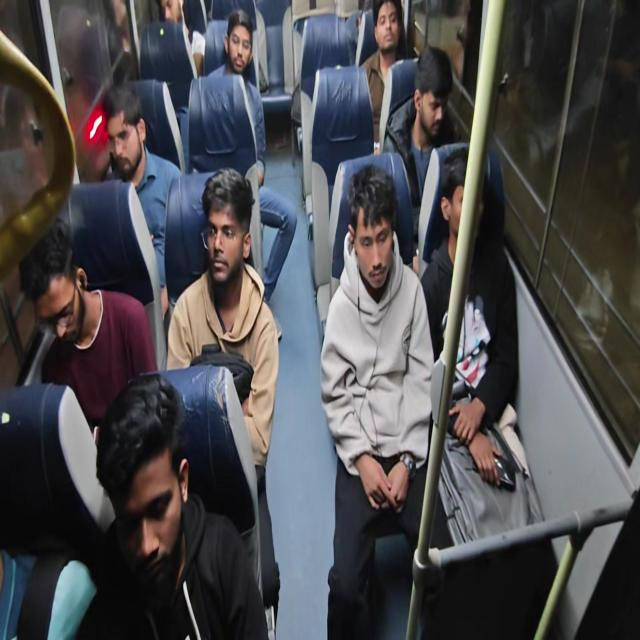person: (94, 366, 214, 578), (339, 163, 408, 300), (18, 224, 92, 351), (202, 162, 255, 284), (439, 146, 489, 257), (411, 44, 460, 150), (101, 83, 146, 179), (224, 14, 254, 72), (374, 1, 404, 58), (161, 0, 192, 36)
